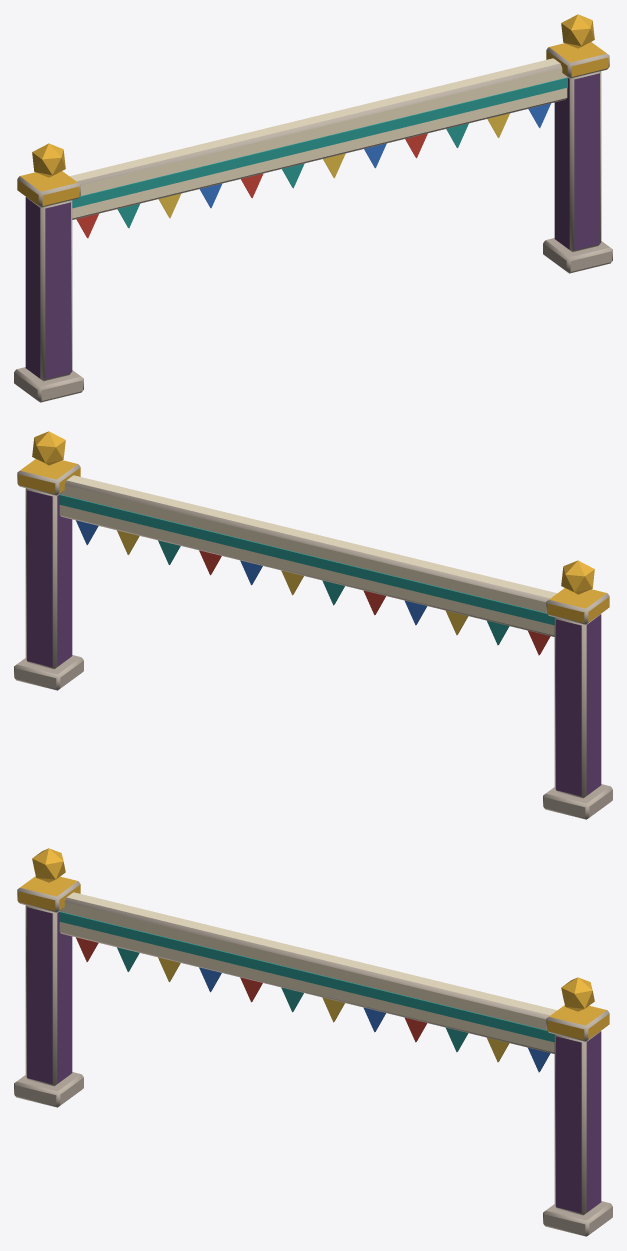
The model's file is dash_start_gate.glb.
The picture shows the model from 3 angles, top to bottom: view 1: azimuth 30°, elevation 25°; view 2: azimuth 150°, elevation 25°; view 3: azimuth 330°, elevation 25°; orthographic projection.
Visible parts, largest first — view 1: dash_start_gate; view 2: dash_start_gate; view 3: dash_start_gate.
Part boxes in pixels (left/top/right/bottom): dash_start_gate: left=14, top=14, right=612, bottom=402; dash_start_gate: left=14, top=431, right=612, bottom=819; dash_start_gate: left=14, top=848, right=612, bottom=1236.
Bounding box in the file's own units: 11.2 × 4.57 × 0.9.
